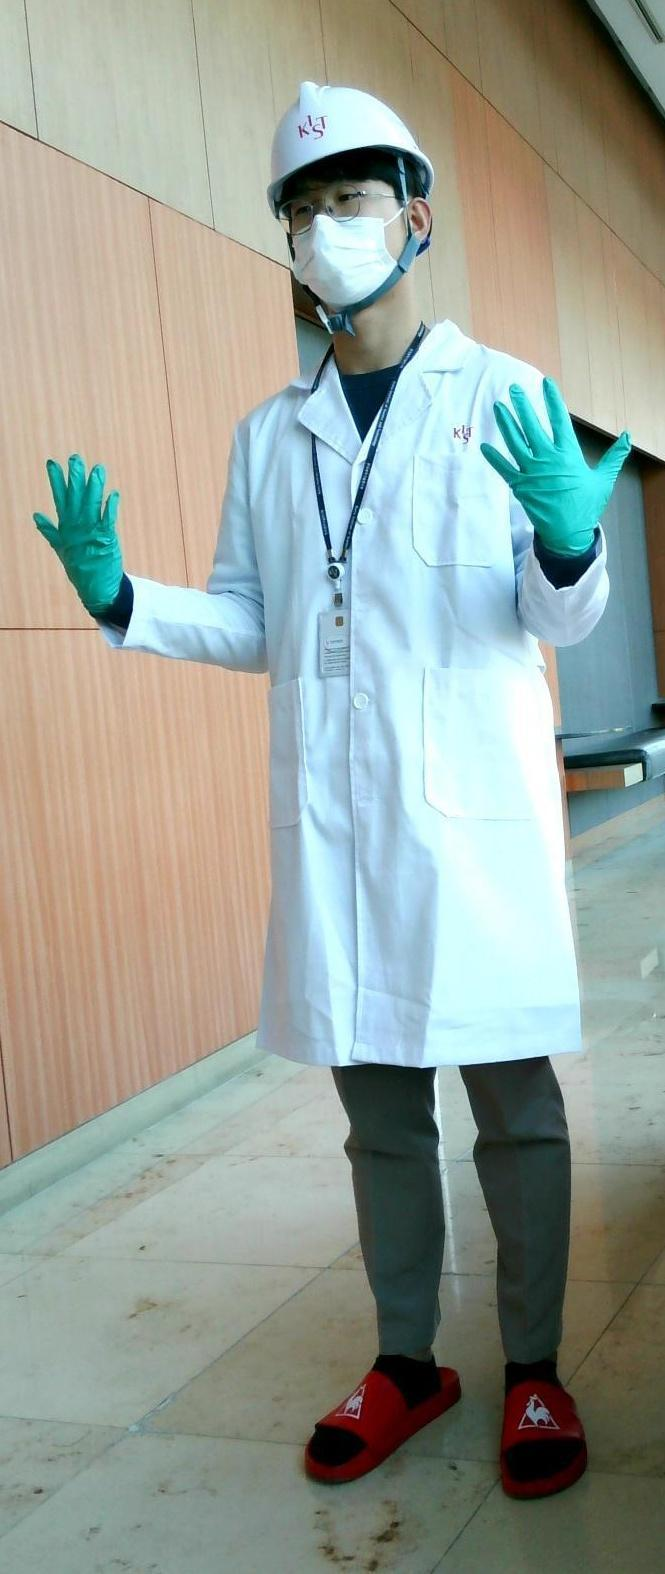lab_coat: (164, 355, 513, 1078)
